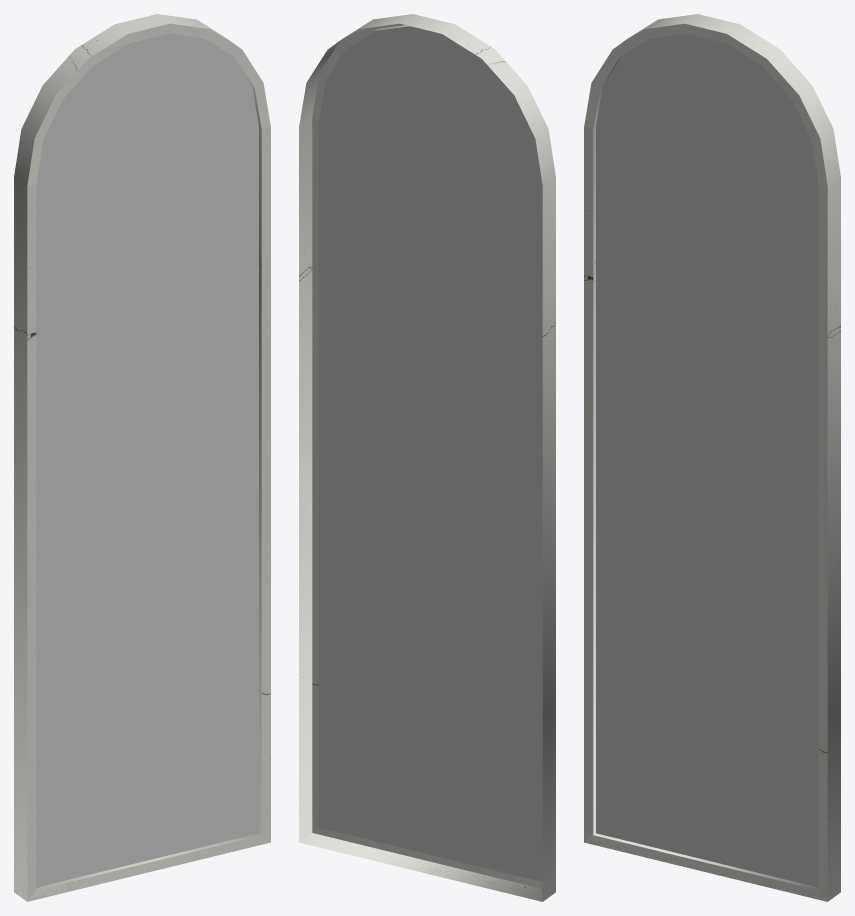
The model's file is window 8.FBX.
The picture shows the model from 3 angles, left to right: view 1: azimuth 30°, elevation 25°; view 2: azimuth 150°, elevation 25°; view 3: azimuth 330°, elevation 25°; orthographic projection.
Visible parts, largest first — view 1: Object134; view 2: Object134; view 3: Object134.
Boxes of the visible parts, x1,y1,x2,y2 form: Object134: [14, 14, 270, 901]; Object134: [299, 14, 555, 901]; Object134: [584, 14, 840, 901].
Size of the model in its own units: 1.6 by 5.29 by 0.15.
